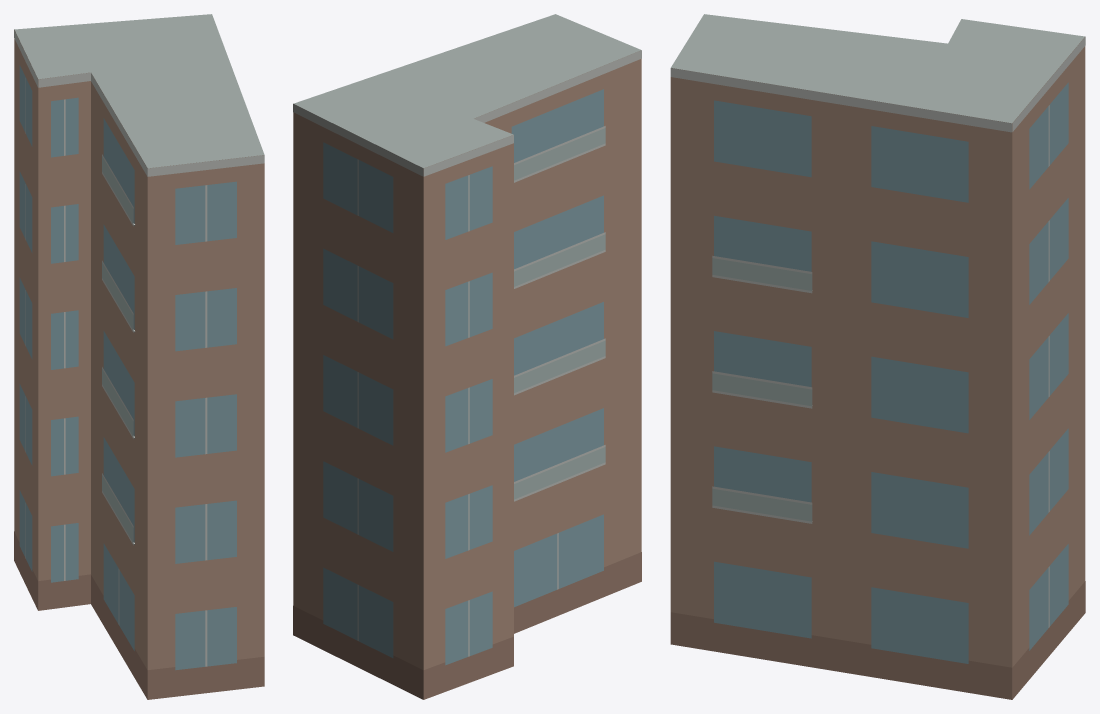
Rendered from survey-upis-32819472.glb.
The picture shows the model from 3 angles, left to right: view 1: azimuth 30°, elevation 25°; view 2: azimuth 150°, elevation 25°; view 3: azimuth 270°, elevation 25°; orthographic projection. The views are drawn at different scales.
Parts seen in each view (by area): view 1: survey-upis-32819472.tmp; view 2: survey-upis-32819472.tmp; view 3: survey-upis-32819472.tmp.
Boxes of the visible parts, box(x1,y1,x2,y2) form: survey-upis-32819472.tmp: box(14, 14, 264, 699); survey-upis-32819472.tmp: box(293, 14, 641, 699); survey-upis-32819472.tmp: box(670, 14, 1085, 699).
Bounding box in the file's own units: 6.21 × 15.25 × 9.95.
